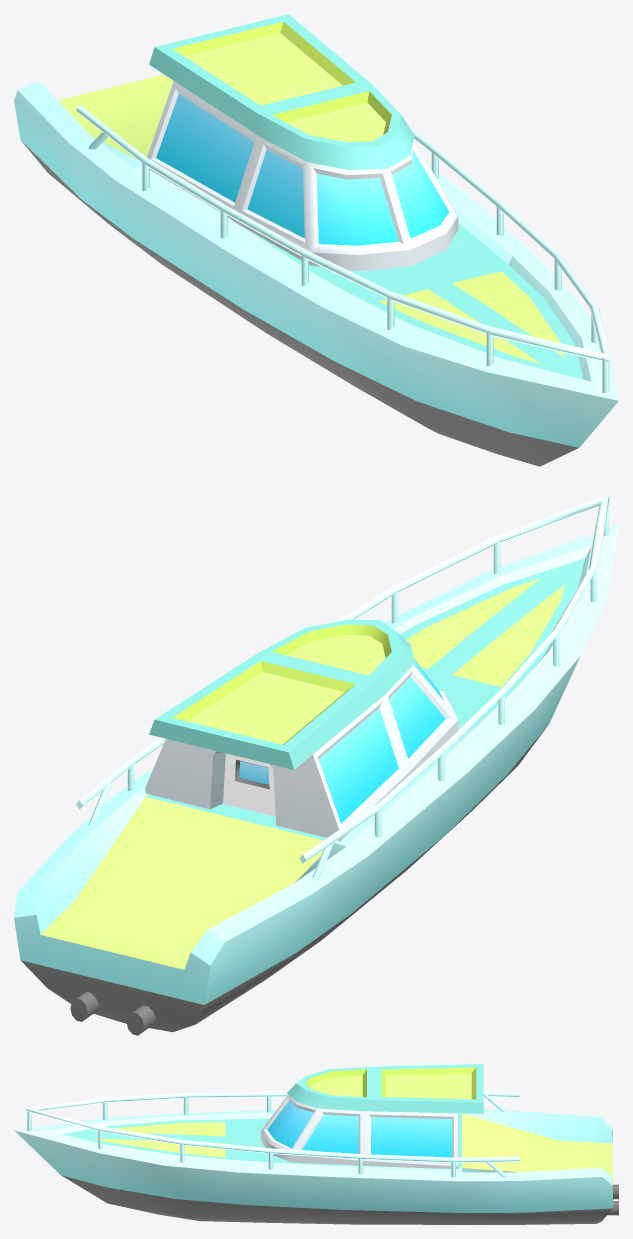
The model's file is Yacht_03.glb.
3 renders of one model, top to bottom at view 1: azimuth 30°, elevation 25°; view 2: azimuth 150°, elevation 25°; view 3: azimuth 270°, elevation 25°, orthographic. The views are drawn at different scales.
Visible parts, largest first — view 1: Yacht_03; view 2: Yacht_03; view 3: Yacht_03.
Part boxes in pixels (x1,y1,x2,y2): Yacht_03: (14, 14, 618, 466); Yacht_03: (14, 495, 618, 1035); Yacht_03: (14, 1064, 618, 1224).
Size of the model in its own units: 4.85 by 4.24 by 17.02.
1 material, 1 textured.
